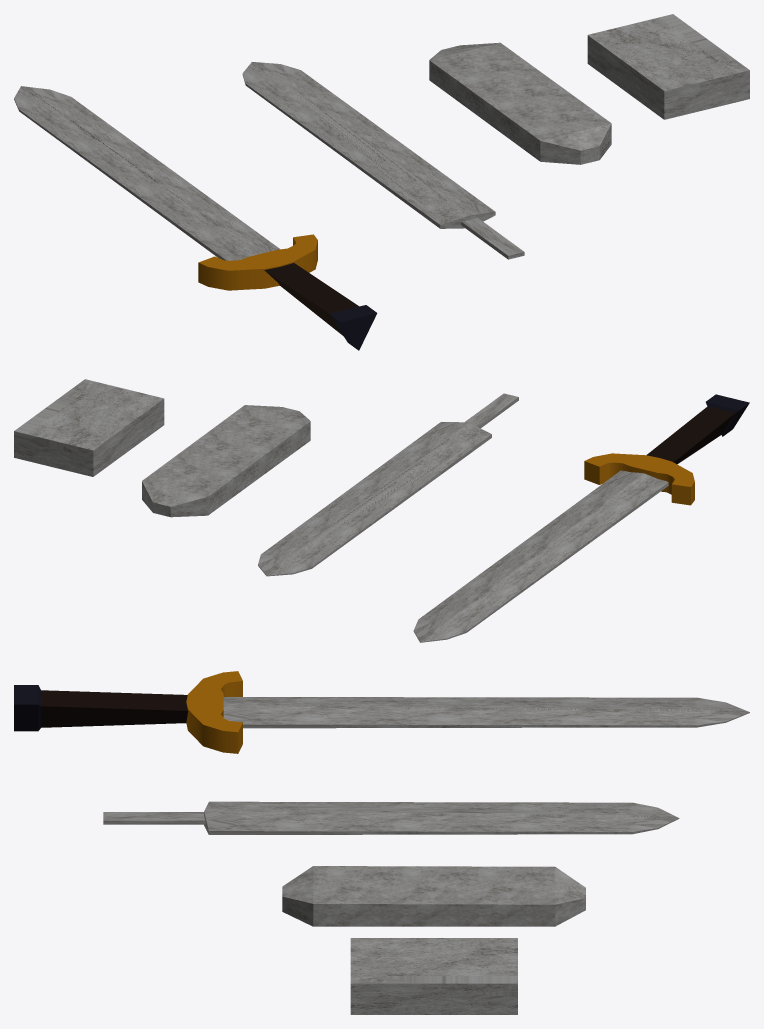
The model's file is steps.fbx.
3 views of the same model, one above another, from view 1: azimuth 30°, elevation 25°; view 2: azimuth 150°, elevation 25°; view 3: azimuth 270°, elevation 25° (orthographic). The views are drawn at different scales.
Visible parts, largest first — view 1: Cube.037, Plane.017, Plane.018, Cube.034, Plane.019, Cube.036; view 2: Plane.018, Cube.037, Plane.017, Cube.034, Plane.019, Cube.036; view 3: Cube.037, Plane.018, Plane.017, Cube.034, Plane.019, Cube.036.
Boxes of the visible parts, x1,y1,x2,y2 form: Cube.037: (429, 42, 611, 164); Plane.017: (242, 62, 495, 228); Plane.018: (14, 86, 279, 260); Cube.034: (587, 14, 749, 119); Plane.019: (198, 234, 377, 350); Cube.036: (461, 217, 524, 259); Plane.018: (413, 470, 668, 642); Cube.037: (142, 405, 310, 517); Plane.017: (258, 422, 491, 576); Cube.034: (14, 379, 164, 476); Plane.019: (584, 394, 749, 505); Cube.036: (465, 393, 518, 428); Cube.037: (282, 866, 585, 926); Plane.018: (223, 697, 749, 728); Plane.017: (204, 801, 679, 834); Cube.034: (350, 938, 517, 1014); Plane.019: (14, 671, 242, 753); Cube.036: (103, 812, 205, 824).
Size of the model in its own units: 346 by 18.83 by 335.
